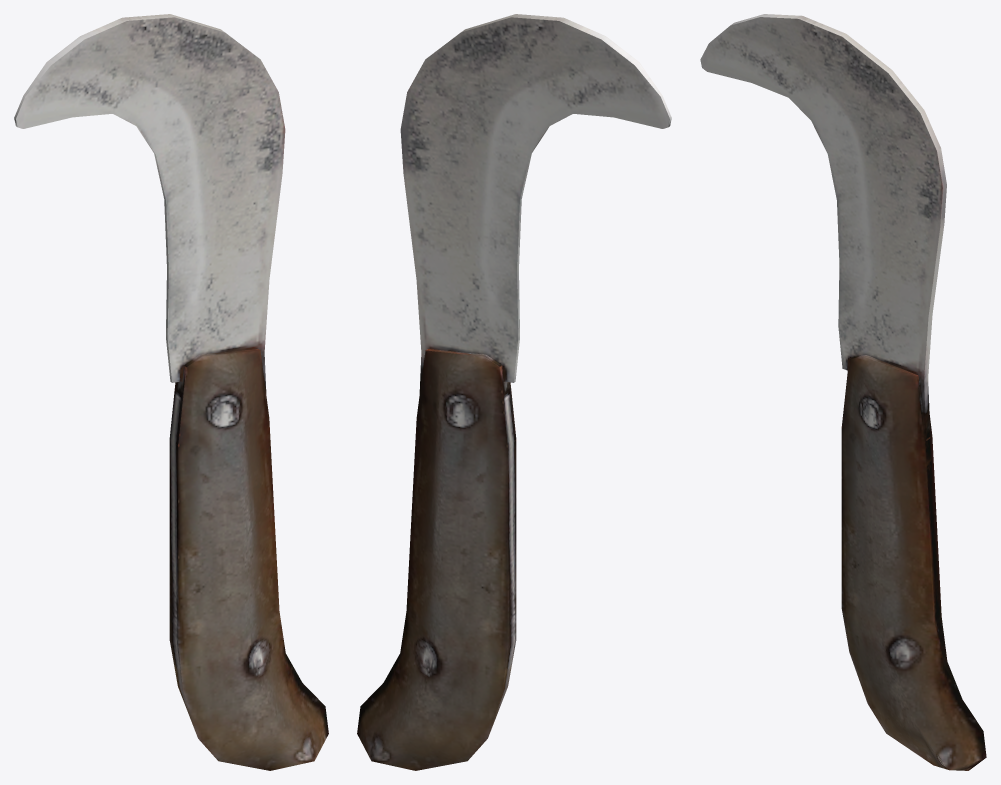
File: SM_PRP_Knife_Misc_01_A.fbx
The picture shows the model from 3 angles, left to right: view 1: azimuth 30°, elevation 25°; view 2: azimuth 150°, elevation 25°; view 3: azimuth 330°, elevation 25°; orthographic projection. The views are drawn at different scales.
Parts seen in each view (by area): view 1: SM_PRP_Knife_Misc_01_A; view 2: SM_PRP_Knife_Misc_01_A; view 3: SM_PRP_Knife_Misc_01_A.
Boxes of the visible parts, <box> form: SM_PRP_Knife_Misc_01_A: <box>14,14,328,770</box>; SM_PRP_Knife_Misc_01_A: <box>357,14,671,770</box>; SM_PRP_Knife_Misc_01_A: <box>700,14,986,770</box>.
Size of the model in its own units: 5.6 by 13.41 by 0.8299.
